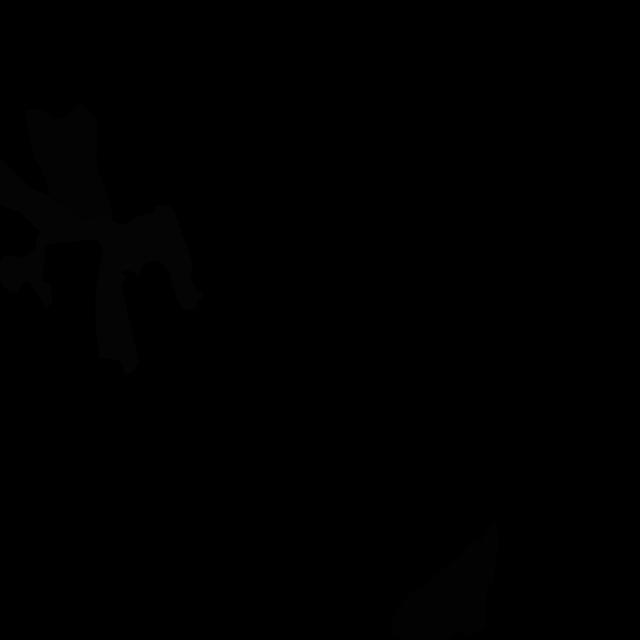cardboard: (390, 518, 500, 640)
metal: (26, 103, 113, 222)
soft_plastic: (0, 157, 203, 375)
